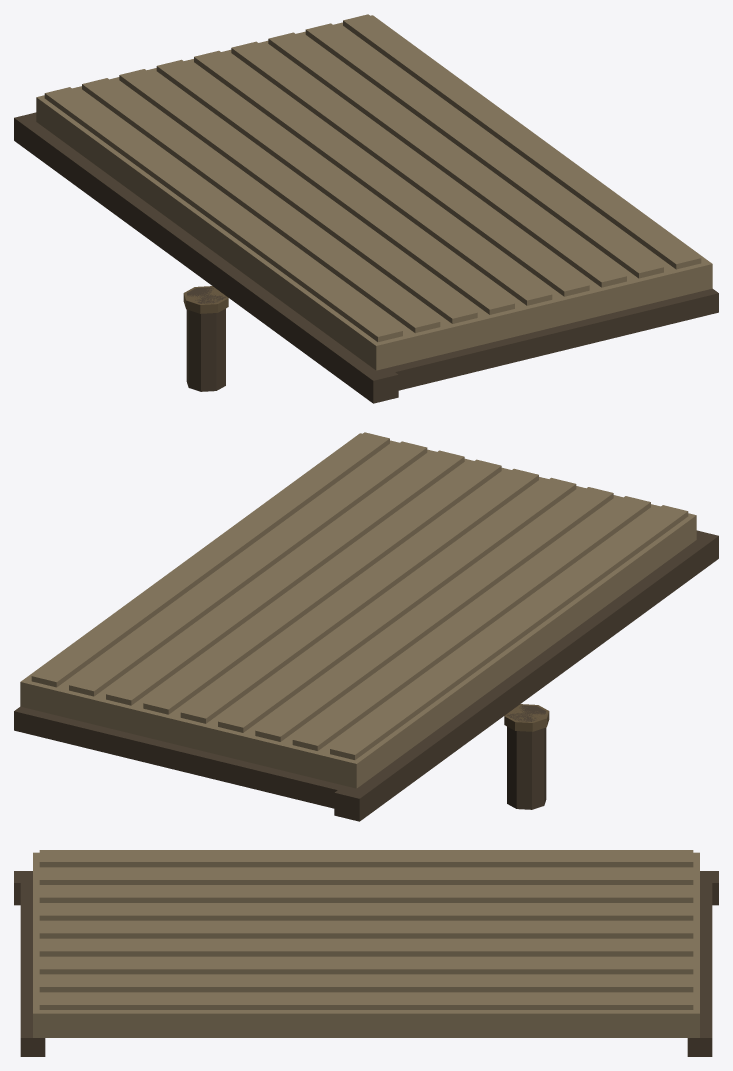
The model's file is ponton-petit.glb.
3 renders of one model, top to bottom at view 1: azimuth 30°, elevation 25°; view 2: azimuth 150°, elevation 25°; view 3: azimuth 270°, elevation 25°, orthographic.
Parts seen in each view (by area): view 1: travee, pieu, bitte; view 2: travee, pieu, bitte; view 3: travee.
Boxes of the visible parts, bbox=[...] form: travee: bbox=[14, 14, 718, 403]; pieu: bbox=[186, 287, 225, 391]; bitte: bbox=[183, 286, 228, 313]; travee: bbox=[14, 432, 718, 821]; pieu: bbox=[507, 705, 546, 809]; bitte: bbox=[504, 704, 549, 731]; travee: bbox=[14, 850, 718, 1056].
Bounding box in the file's own units: 4.24 × 1.9 × 7.4.
